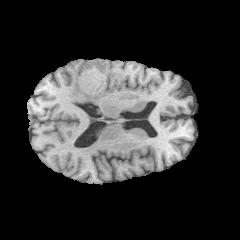glioma: (70, 61, 124, 103)
